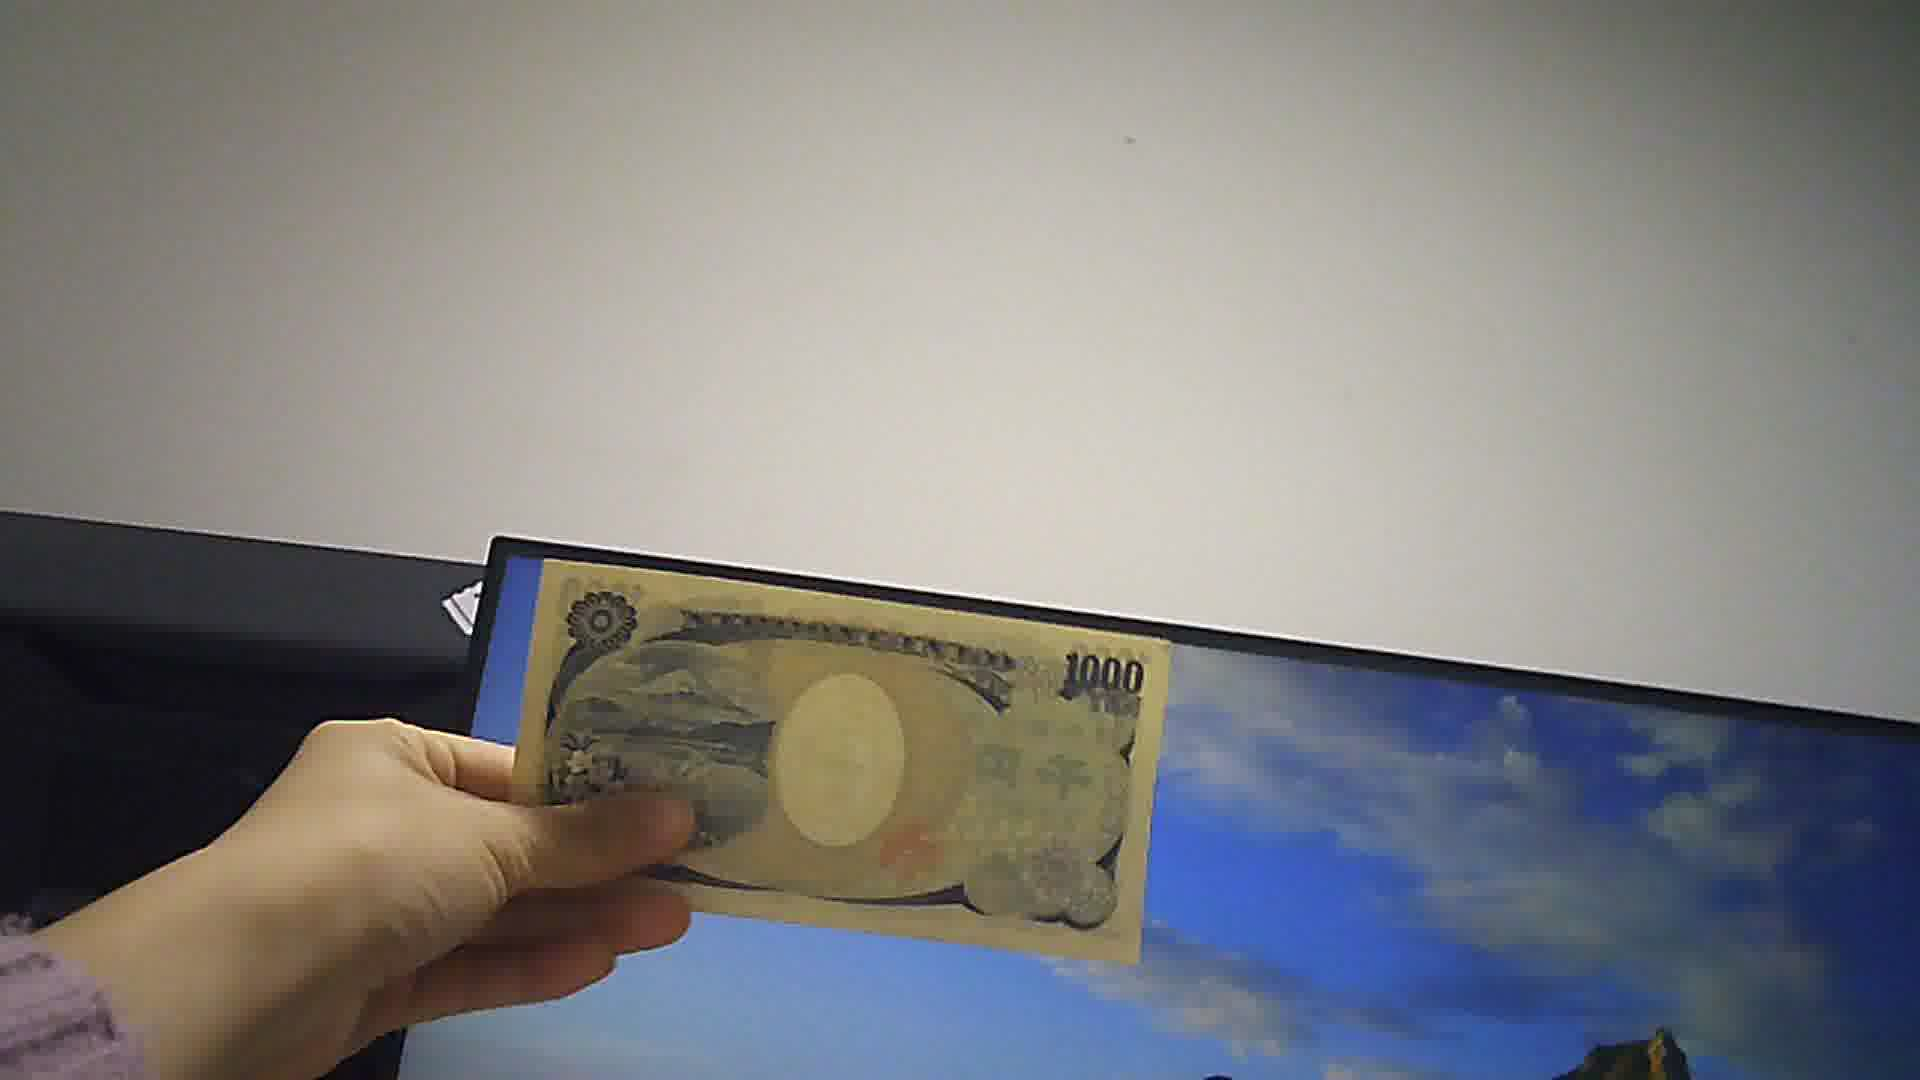1,000 Yen: (498, 555, 1164, 967)
